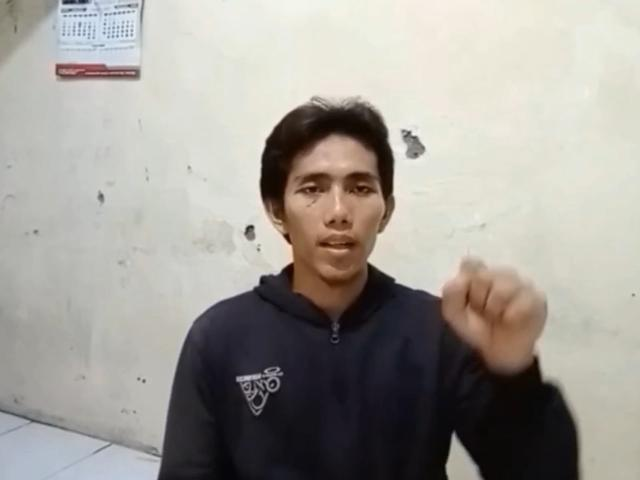A: (436, 253, 554, 364)
